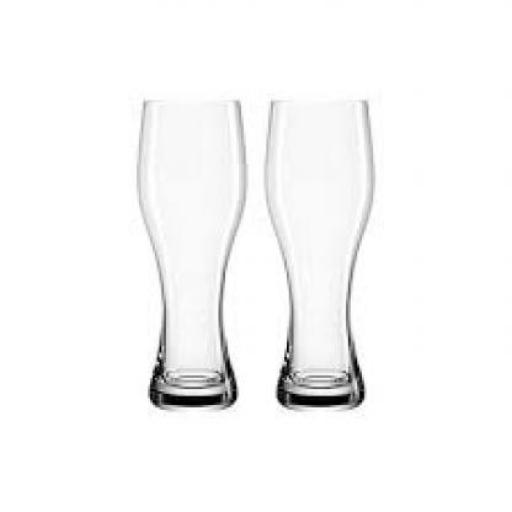glass: (266, 95, 375, 408), (138, 98, 246, 408)
